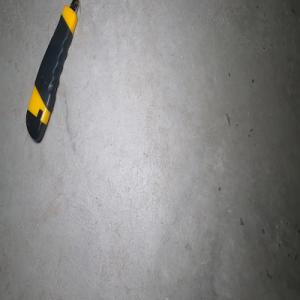Cutter: (24, 0, 80, 143)
